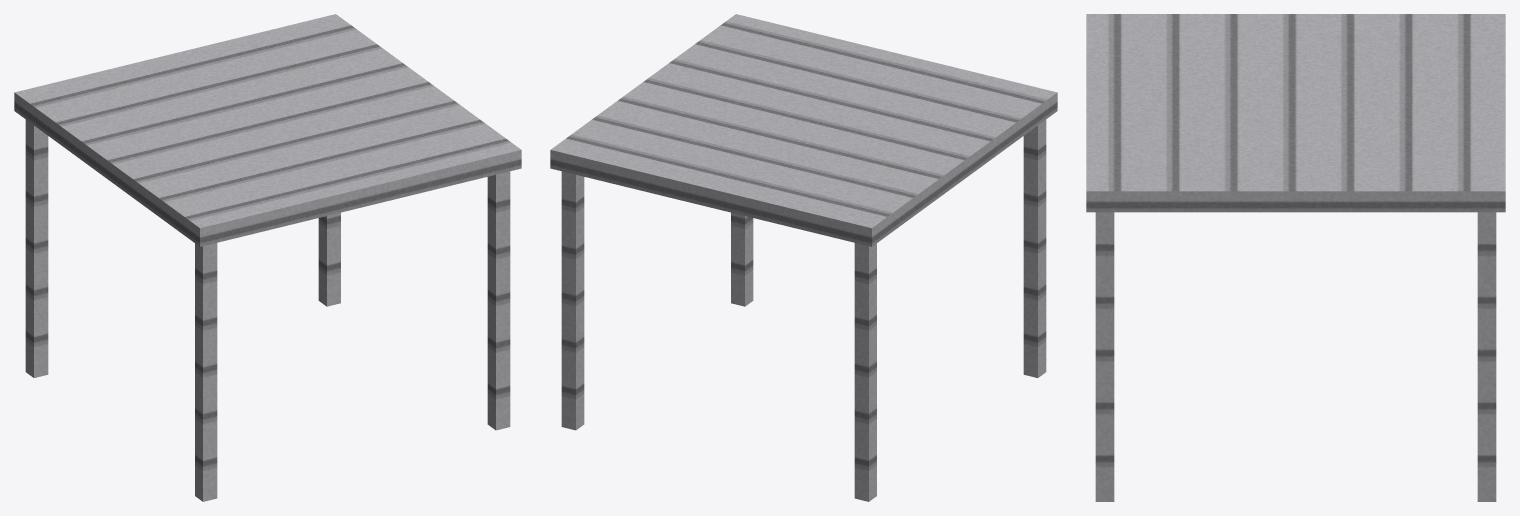
The model's file is card_games_table.glb.
3 renders of one model, left to right at view 1: azimuth 30°, elevation 25°; view 2: azimuth 150°, elevation 25°; view 3: azimuth 270°, elevation 25°, orthographic. The views are drawn at different scales.
Parts seen in each view (by area): view 1: card_games_table-col; view 2: card_games_table-col; view 3: card_games_table-col.
Part boxes in pixels (x1,y1,x2,y2): card_games_table-col: (14, 14, 521, 501); card_games_table-col: (550, 14, 1057, 501); card_games_table-col: (1086, 14, 1505, 501).
Bounding box in the file's own units: 0.9 × 0.745 × 0.9.
1 material, 1 textured.
